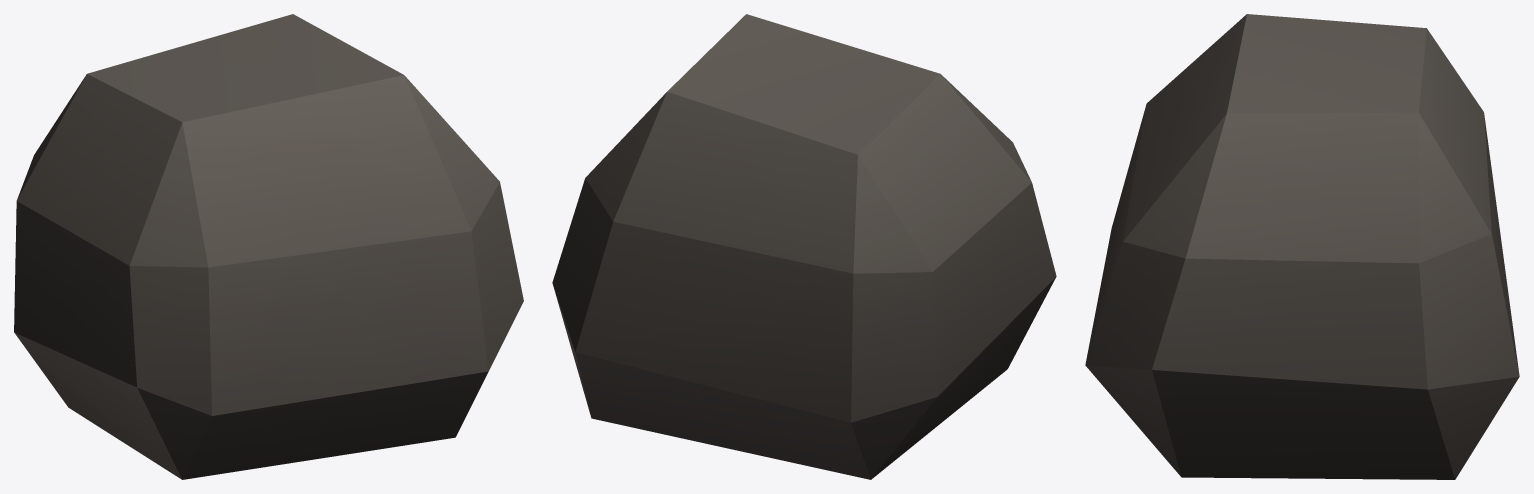
File: Stone_Squarish_D.fbx
The picture shows the model from 3 angles, left to right: view 1: azimuth 30°, elevation 25°; view 2: azimuth 150°, elevation 25°; view 3: azimuth 270°, elevation 25°; orthographic projection. The views are drawn at different scales.
Parts seen in each view (by area): view 1: Stone_Squarish_D; view 2: Stone_Squarish_D; view 3: Stone_Squarish_D.
Boxes of the visible parts, bbox=[...] form: Stone_Squarish_D: bbox=[14, 14, 523, 479]; Stone_Squarish_D: bbox=[552, 14, 1056, 479]; Stone_Squarish_D: bbox=[1085, 14, 1519, 479].
Bounding box in the file's own units: 21.57 × 18.42 × 20.71.
